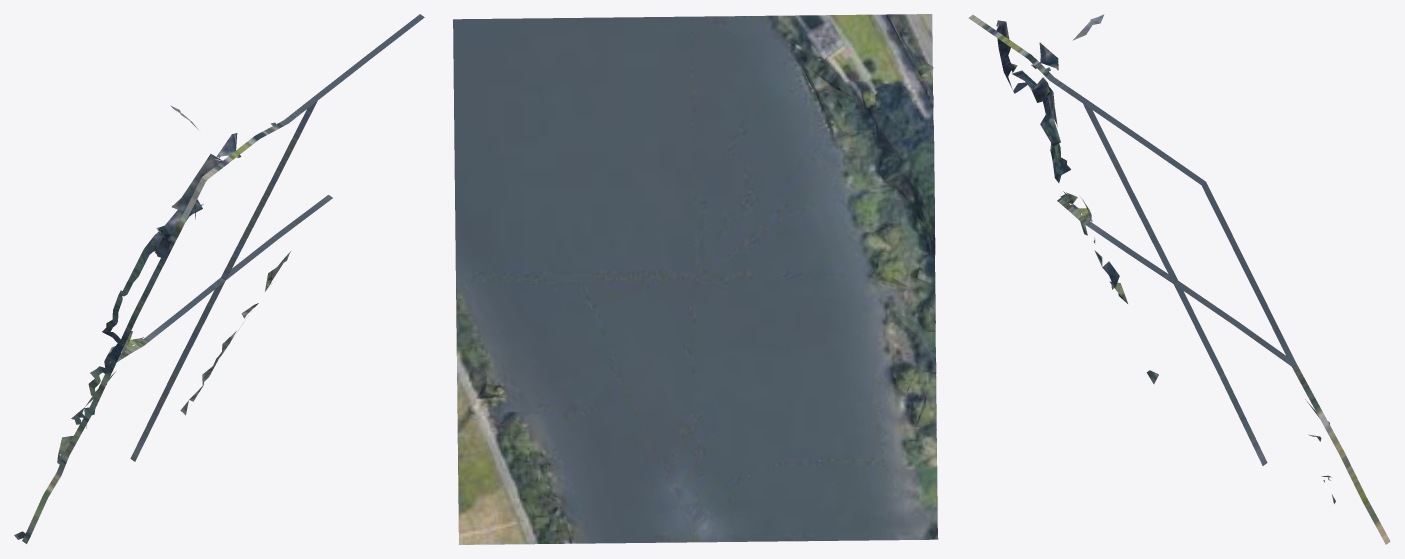
3 renders of one model, left to right at view 1: azimuth 30°, elevation 25°; view 2: azimuth 150°, elevation 25°; view 3: azimuth 270°, elevation 25°, orthographic. The views are drawn at different scales.
Bounding box in the file's own units: 309 × 290 × 258.
Materials: 1 (1 with a texture image).
